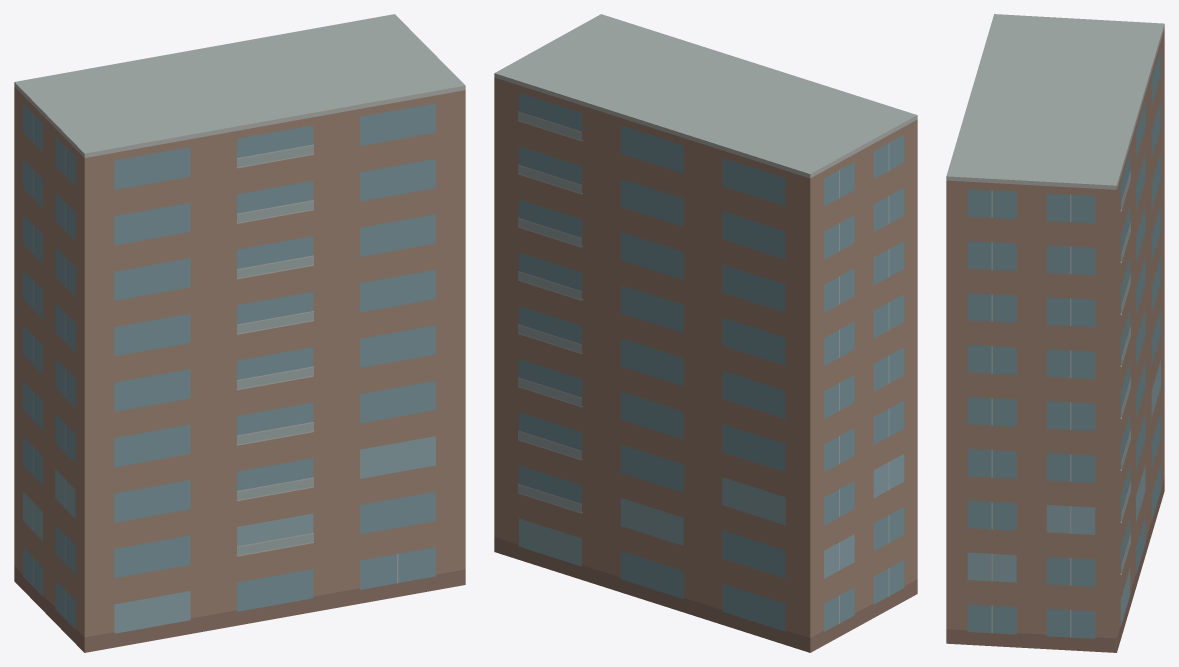
File: survey-upis-32737122.glb
3 renders of one model, left to right at view 1: azimuth 30°, elevation 25°; view 2: azimuth 150°, elevation 25°; view 3: azimuth 270°, elevation 25°, orthographic. The views are drawn at different scales.
Parts seen in each view (by area): view 1: survey-upis-32737122.tmp; view 2: survey-upis-32737122.tmp; view 3: survey-upis-32737122.tmp.
Boxes of the visible parts, bbox=[...] form: survey-upis-32737122.tmp: bbox=[14, 14, 465, 652]; survey-upis-32737122.tmp: bbox=[494, 14, 917, 652]; survey-upis-32737122.tmp: bbox=[946, 14, 1164, 652].
Bounding box in the file's own units: 21.64 × 27.45 × 11.63.
